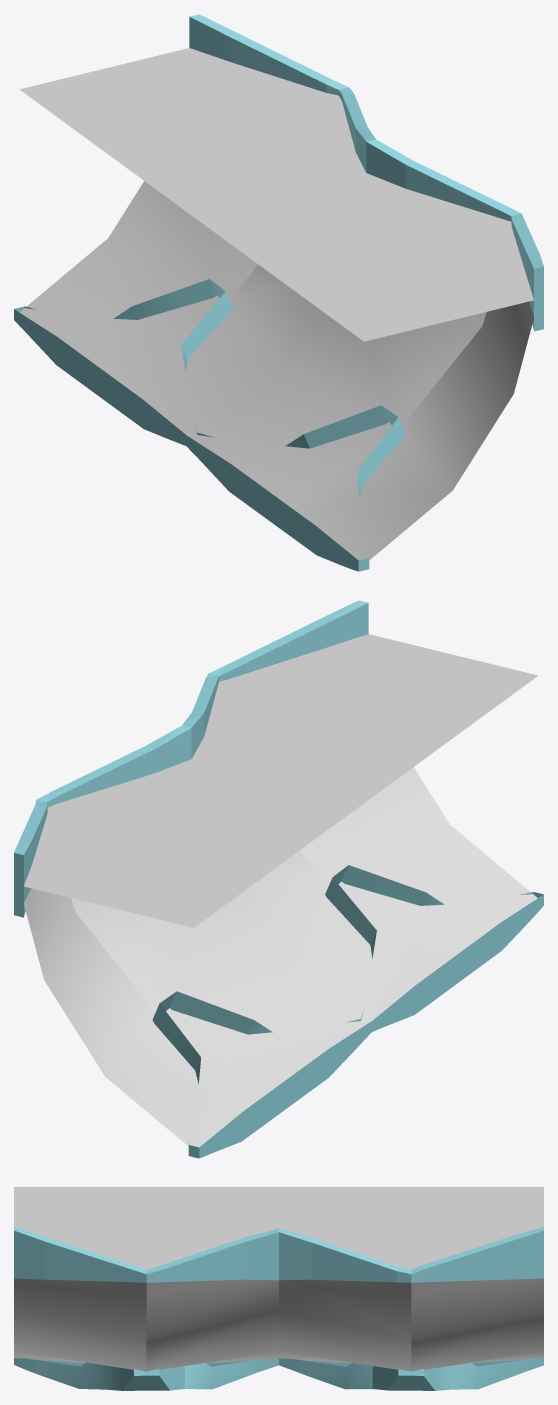
File: BalconyAwning_mid.fbx
3 views of the same model, one above another, from view 1: azimuth 30°, elevation 25°; view 2: azimuth 150°, elevation 25°; view 3: azimuth 270°, elevation 25° (orthographic). The views are drawn at different scales.
Visible parts, largest first — view 1: Balcony/Awning_mid; view 2: Balcony/Awning_mid; view 3: Balcony/Awning_mid.
Boxes of the visible parts, x1,y1,x2,y2 form: Balcony/Awning_mid: (14,14,543,571); Balcony/Awning_mid: (14,600,543,1158); Balcony/Awning_mid: (14,1187,543,1390).
Bounding box in the file's own units: 11.69 × 12.31 × 28.
